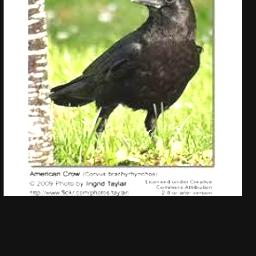Crow: (47, 0, 204, 166)
